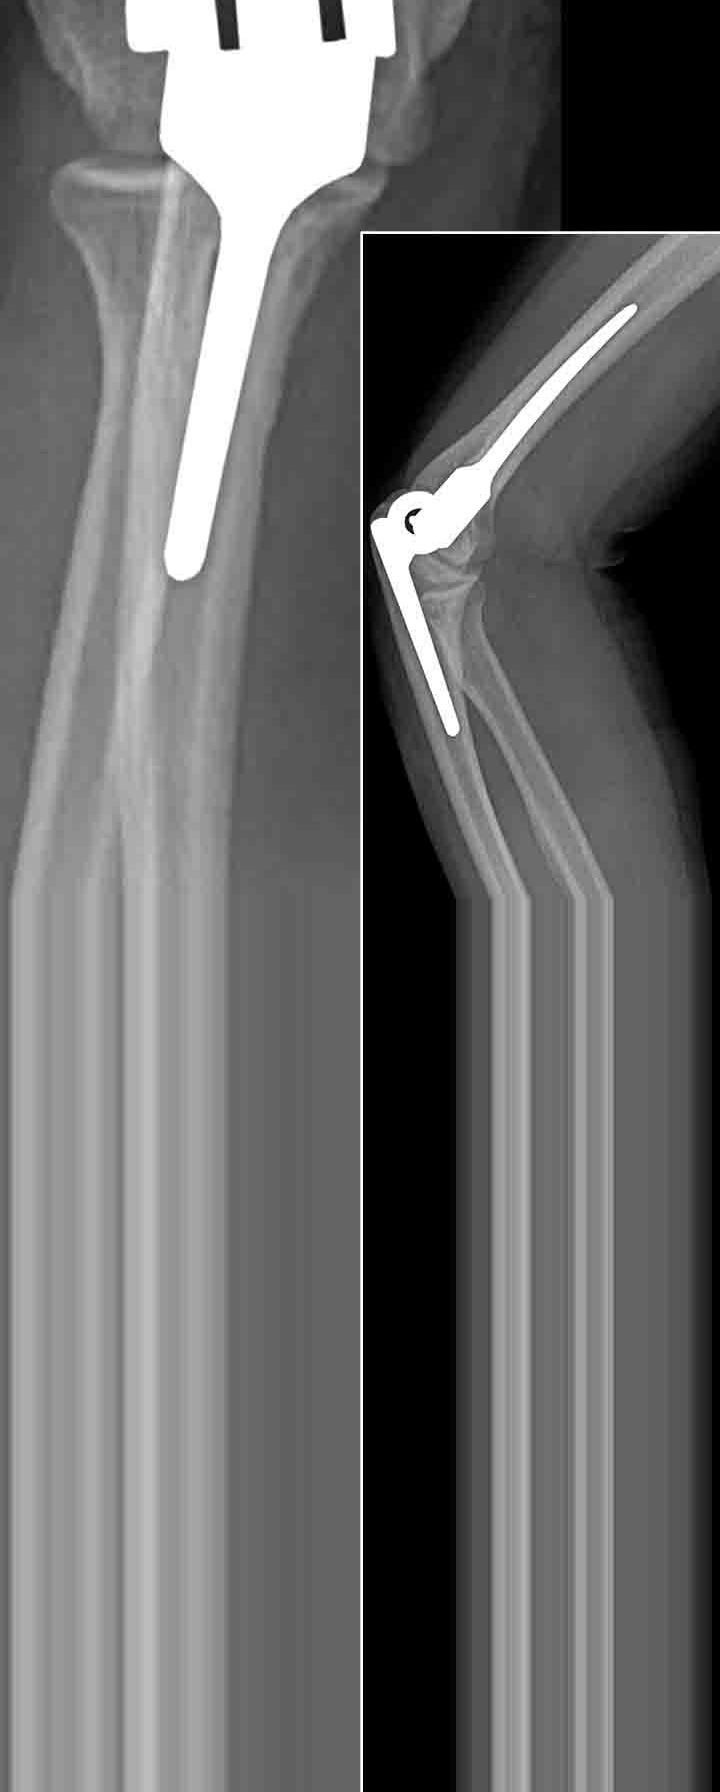Elbow - Osteonics - Stryker: (368, 295, 683, 786), (109, 1, 405, 448)
